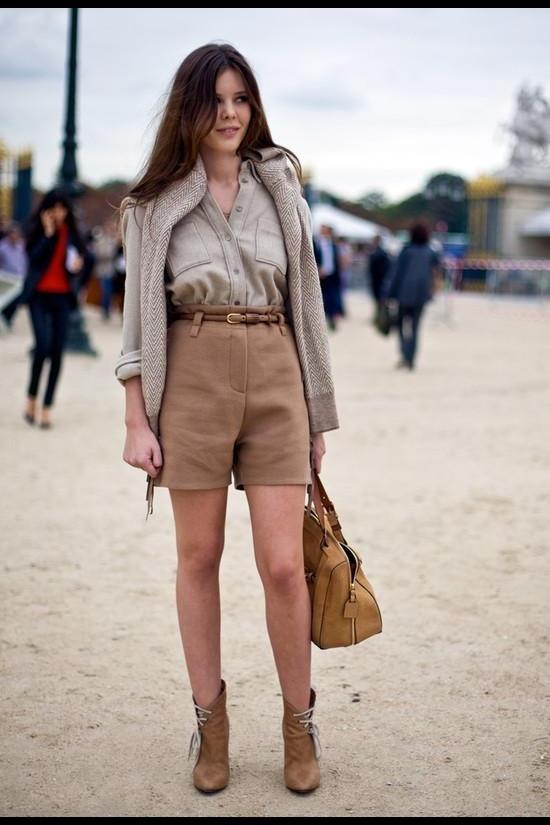shirt: (116, 160, 322, 384)
short: (154, 304, 316, 490)
